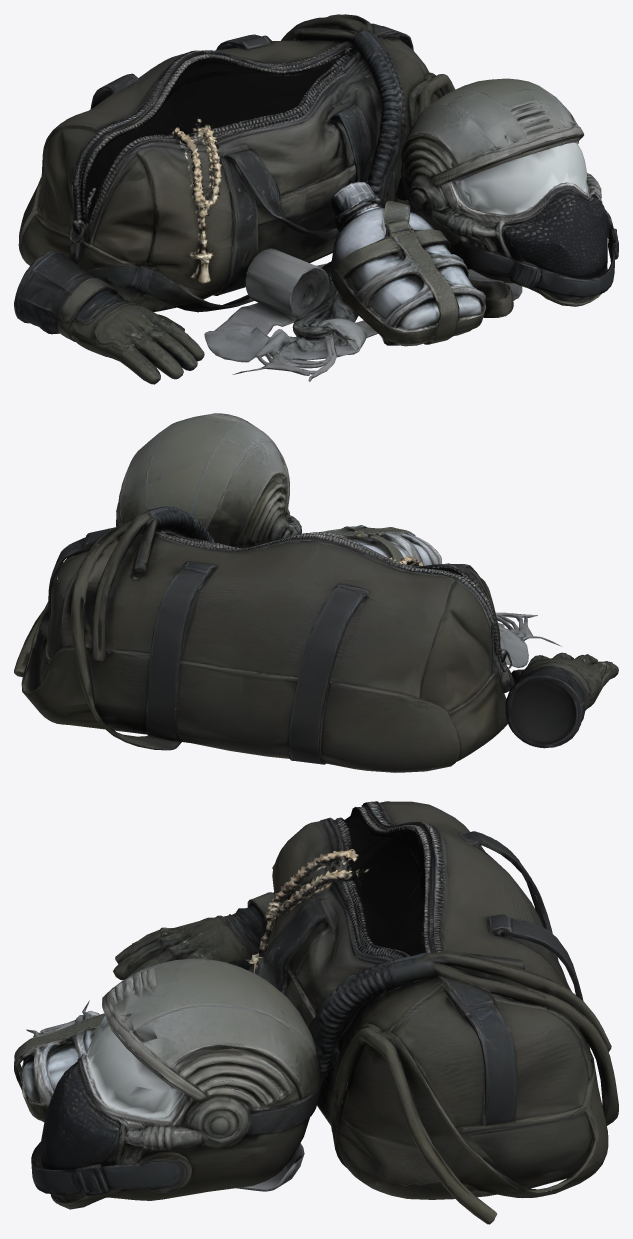
The model's file is life_dropped_kit_pile.glb.
3 views of the same model, one above another, from view 1: azimuth 30°, elevation 25°; view 2: azimuth 150°, elevation 25°; view 3: azimuth 270°, elevation 25° (orthographic). The views are drawn at different scales.
Parts seen in each view (by area): view 1: node_0; view 2: node_0; view 3: node_0.
Part boxes in pixels (bbox=[...]): node_0: bbox=[14, 14, 618, 384]; node_0: bbox=[14, 413, 618, 772]; node_0: bbox=[14, 801, 618, 1224].
Size of the model in its own units: 1.01 by 0.3688 by 0.859.
1 material, 1 textured.
